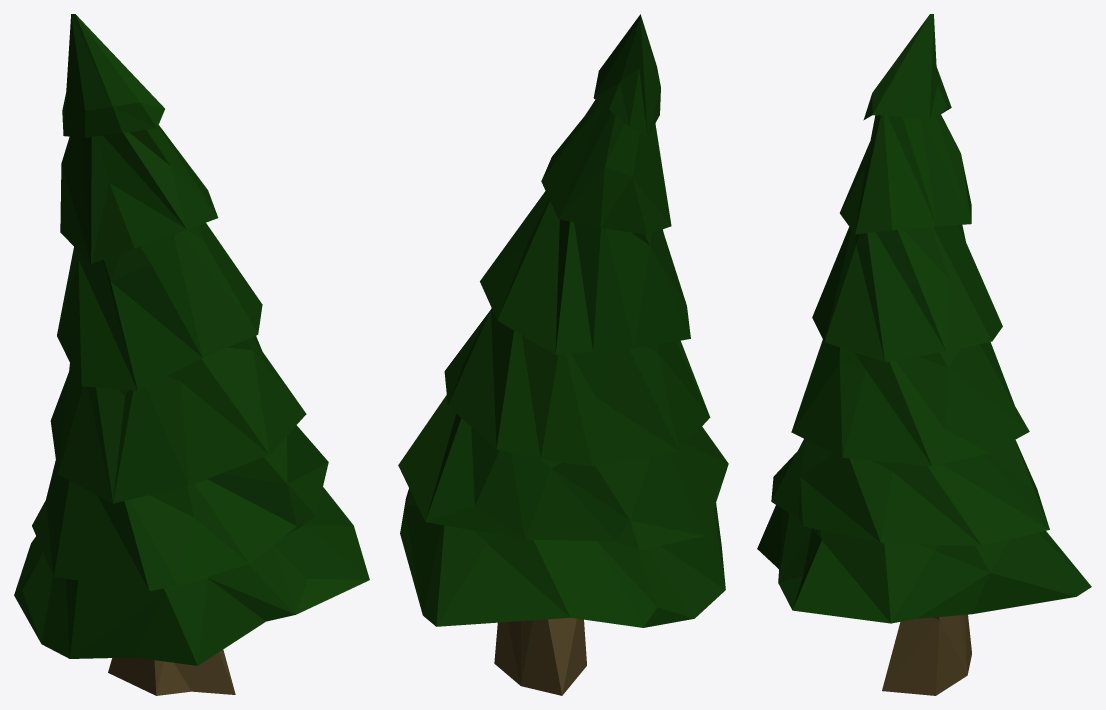
File: Tree.FBX
3 views of the same model, side by side, from view 1: azimuth 30°, elevation 25°; view 2: azimuth 150°, elevation 25°; view 3: azimuth 270°, elevation 25° (orthographic). The views are drawn at different scales.
Parts seen in each view (by area): view 1: default; view 2: default; view 3: default.
Part boxes in pixels (bbox=[...]): default: bbox=[14, 14, 369, 695]; default: bbox=[398, 14, 728, 695]; default: bbox=[757, 14, 1091, 695].
Size of the model in its own units: 87.34 by 191 by 93.79.
